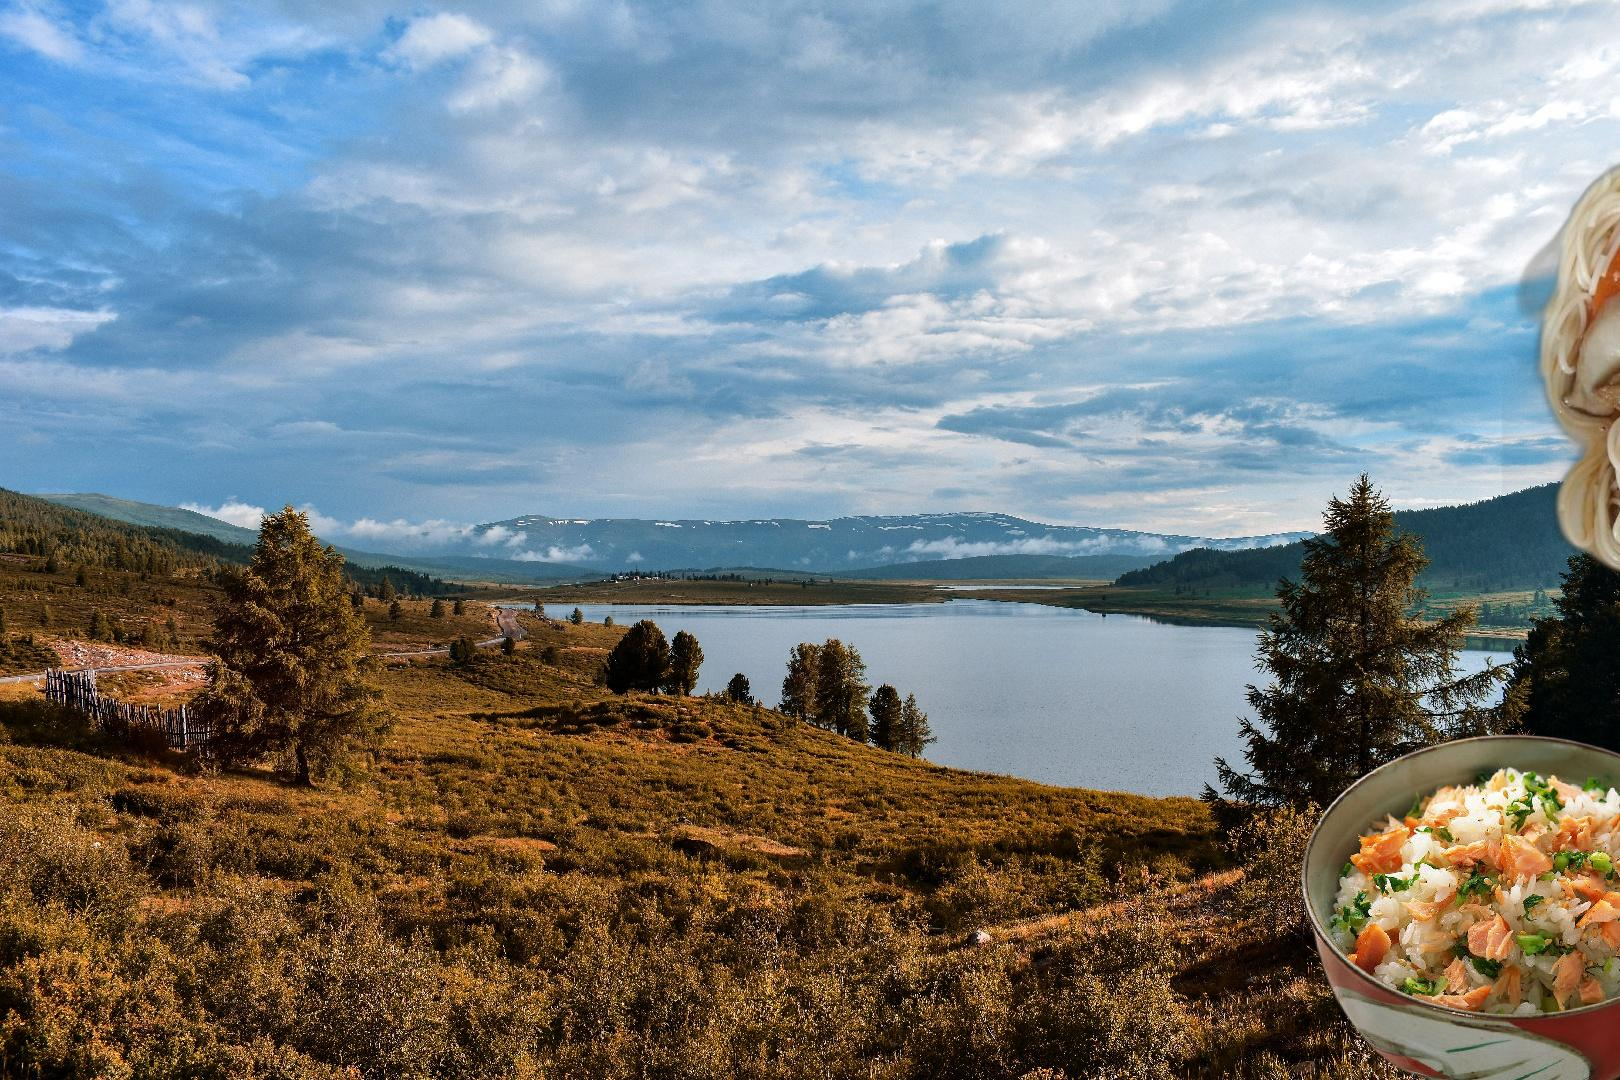biological: (1296, 730, 1620, 1080), (1502, 80, 1620, 720)
